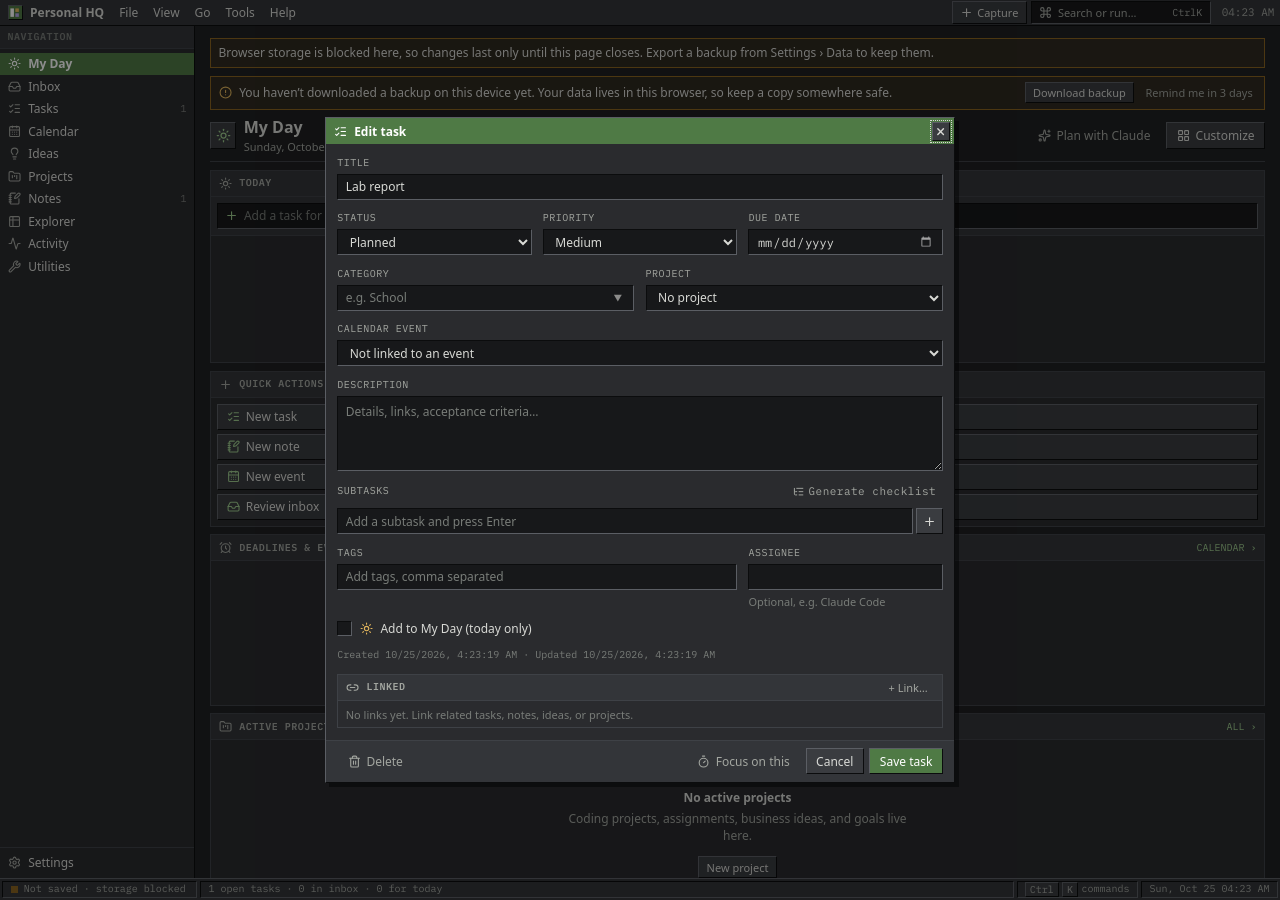
Test: Linked panel › links a task to a note from the task editor and shows the backlink on the note
The width and height of the screenshot is (1280, 900).
Expected: the heading "My Day" is shown, [244, 116, 303, 138]
Step 1. Click the button "+ Link…" → point(908, 688), box [882, 678, 934, 697]
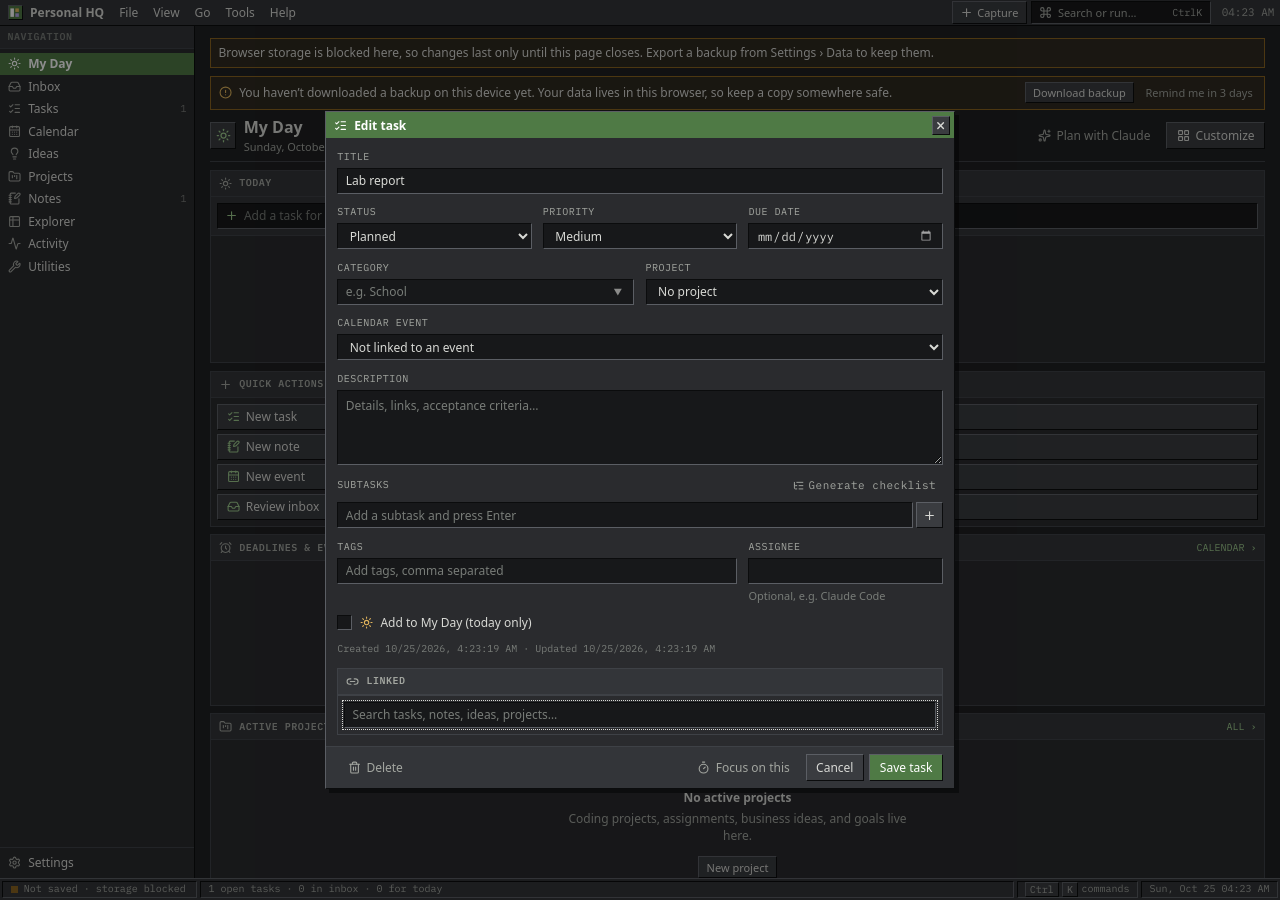
Step 2. Type "lab notes" into the field named "Find an item to link" → point(640, 715), box [344, 702, 936, 728]
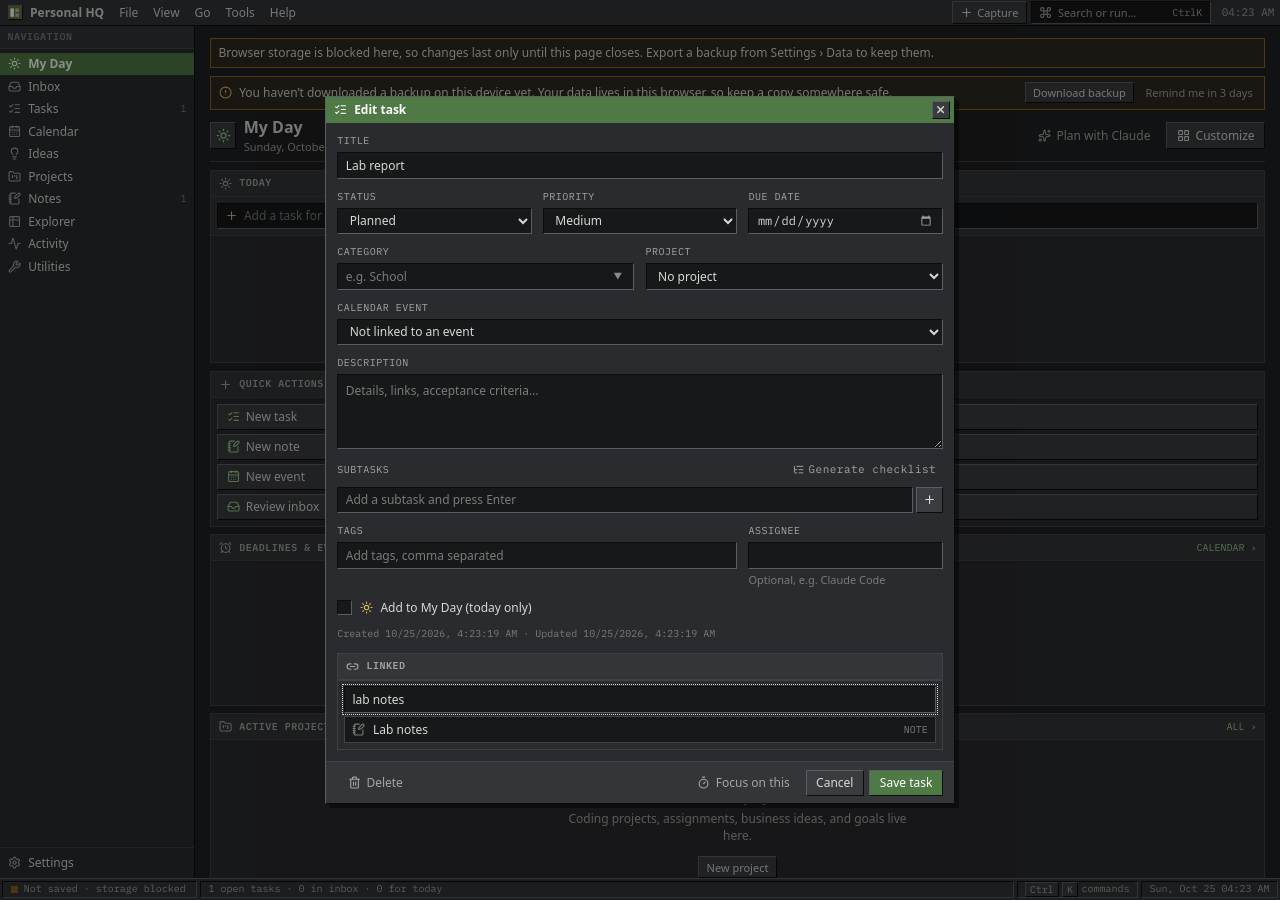
Step 3. Click the button "Lab notes Note" → point(401, 730), box [345, 717, 935, 742]
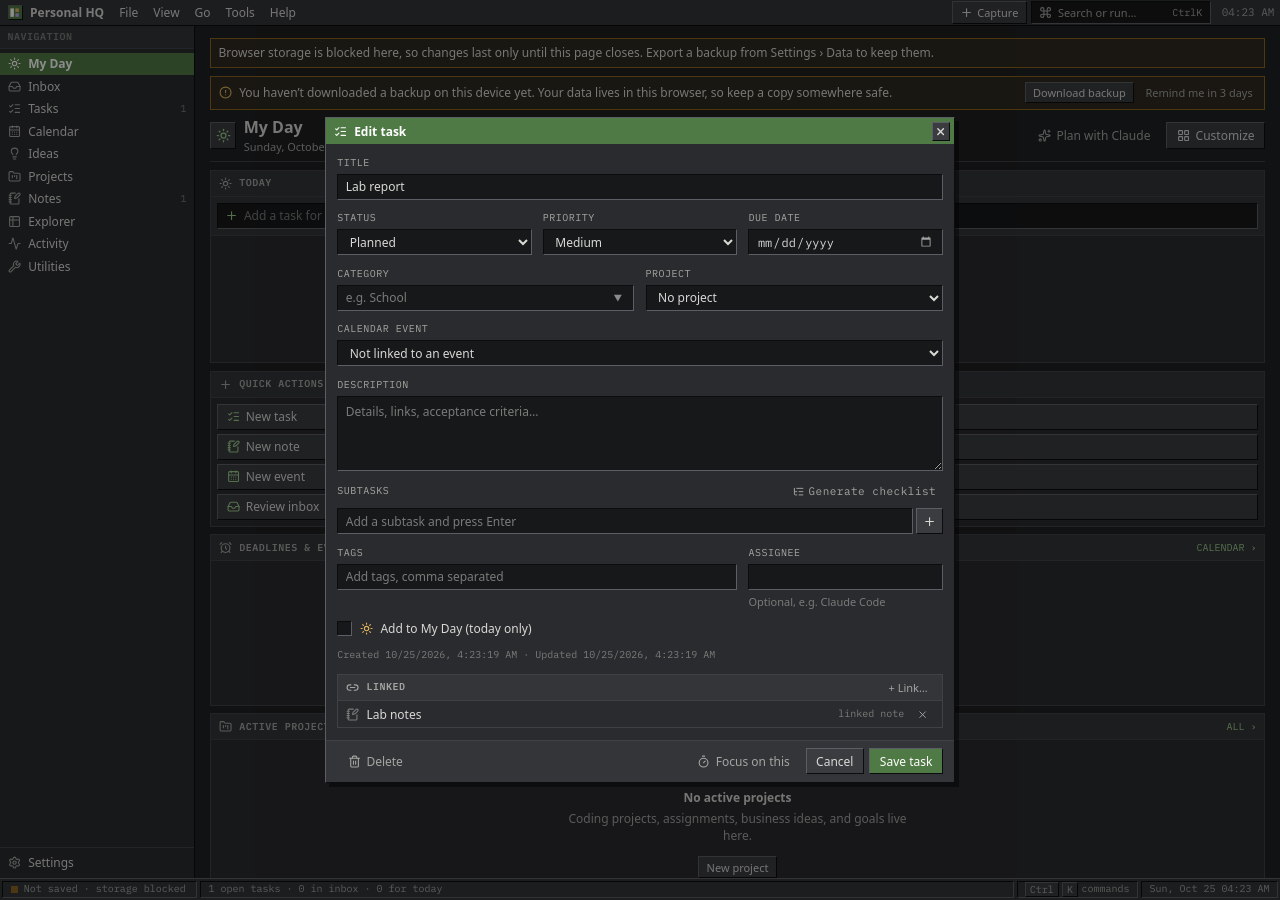
Step 4. Click the button named "Close" → point(941, 131), box [932, 122, 950, 141]
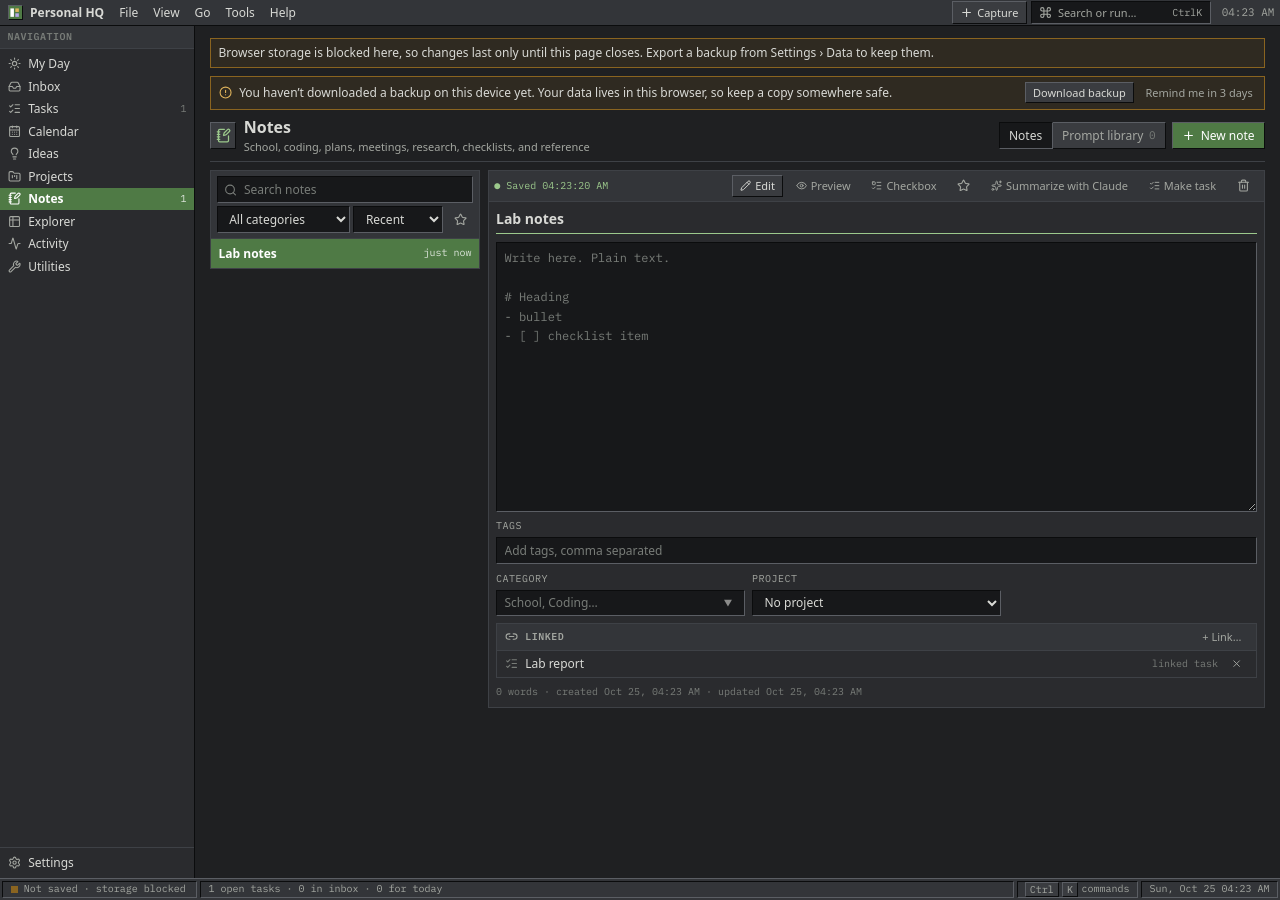
Now the button "Lab report" is shown, box [525, 655, 1144, 672]
Now the text "linked task" is shown, box [1152, 656, 1218, 671]
